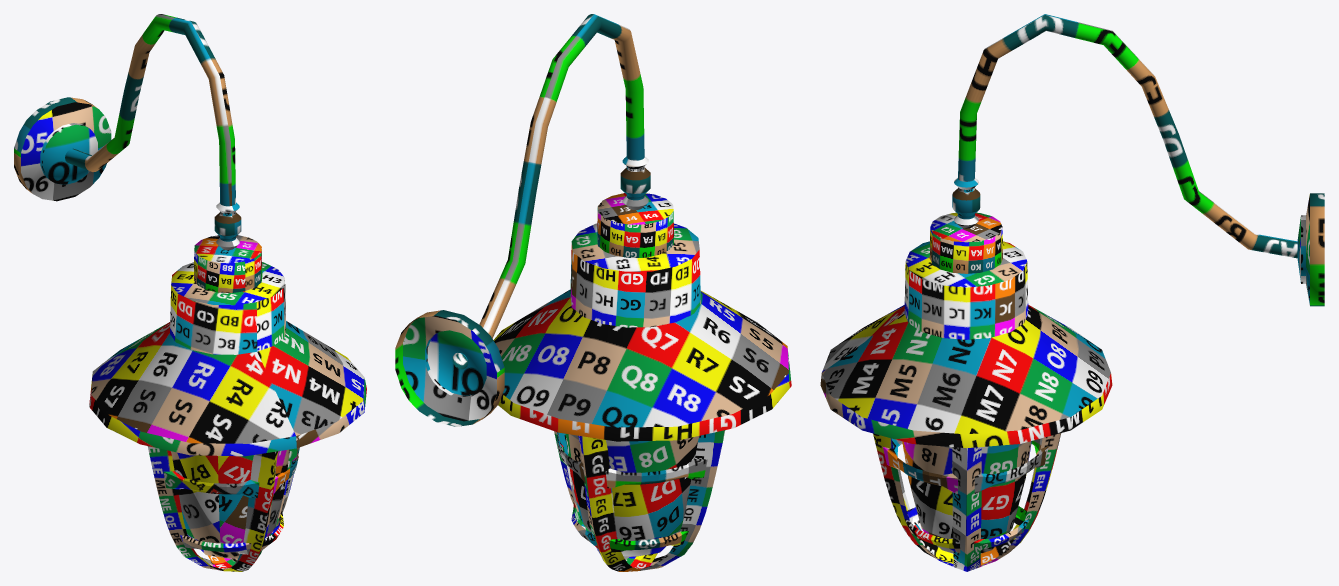
Rendered from wall lamp.FBX.
3 renders of one model, left to right at view 1: azimuth 30°, elevation 25°; view 2: azimuth 150°, elevation 25°; view 3: azimuth 270°, elevation 25°, orthographic. The views are drawn at different scales.
Parts seen in each view (by area): view 1: wall lamp; view 2: wall lamp; view 3: wall lamp.
Part boxes in pixels (<box>): wall lamp: <box>14,14,366,571</box>; wall lamp: <box>395,14,791,571</box>; wall lamp: <box>820,14,1324,571</box>.
Size of the model in its own units: 82.23 by 168 by 139.
Materials: 1 (1 with a texture image).
